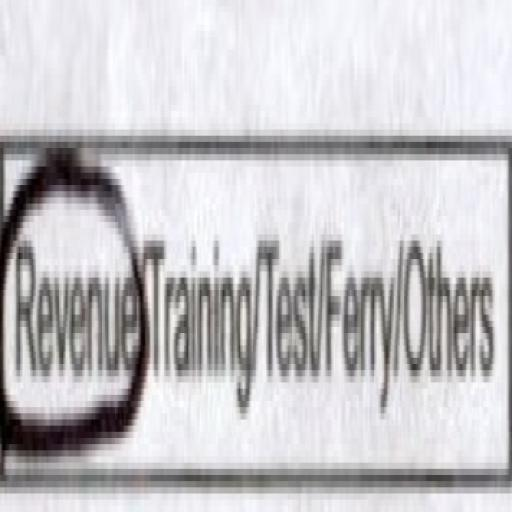check: (0, 49, 141, 506)
